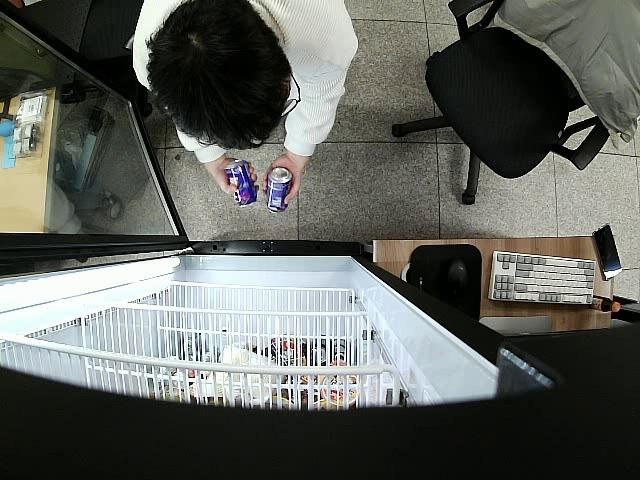00_hand: (209, 157, 261, 200), (265, 154, 304, 207)
14_welchsGrape: (223, 161, 258, 210), (265, 166, 292, 213)
